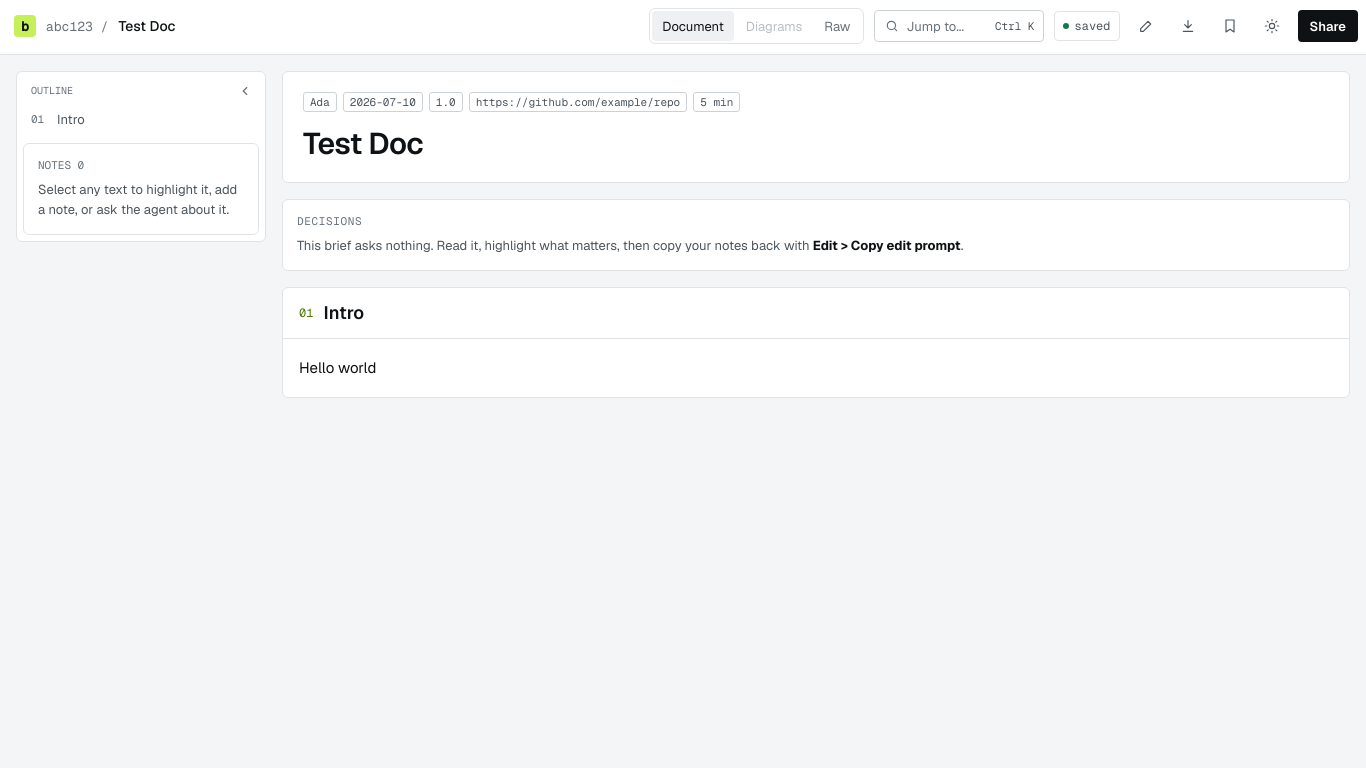
Test case: SessionPage / SessionView › Archive button opens SaveModal, and a plain save marks the Archive button archived without losing the doc
expect the heading "Test Doc" is shown: met, box [303, 124, 423, 163]
Click the button named "Archive" at [1230, 26], box [1214, 10, 1246, 42]
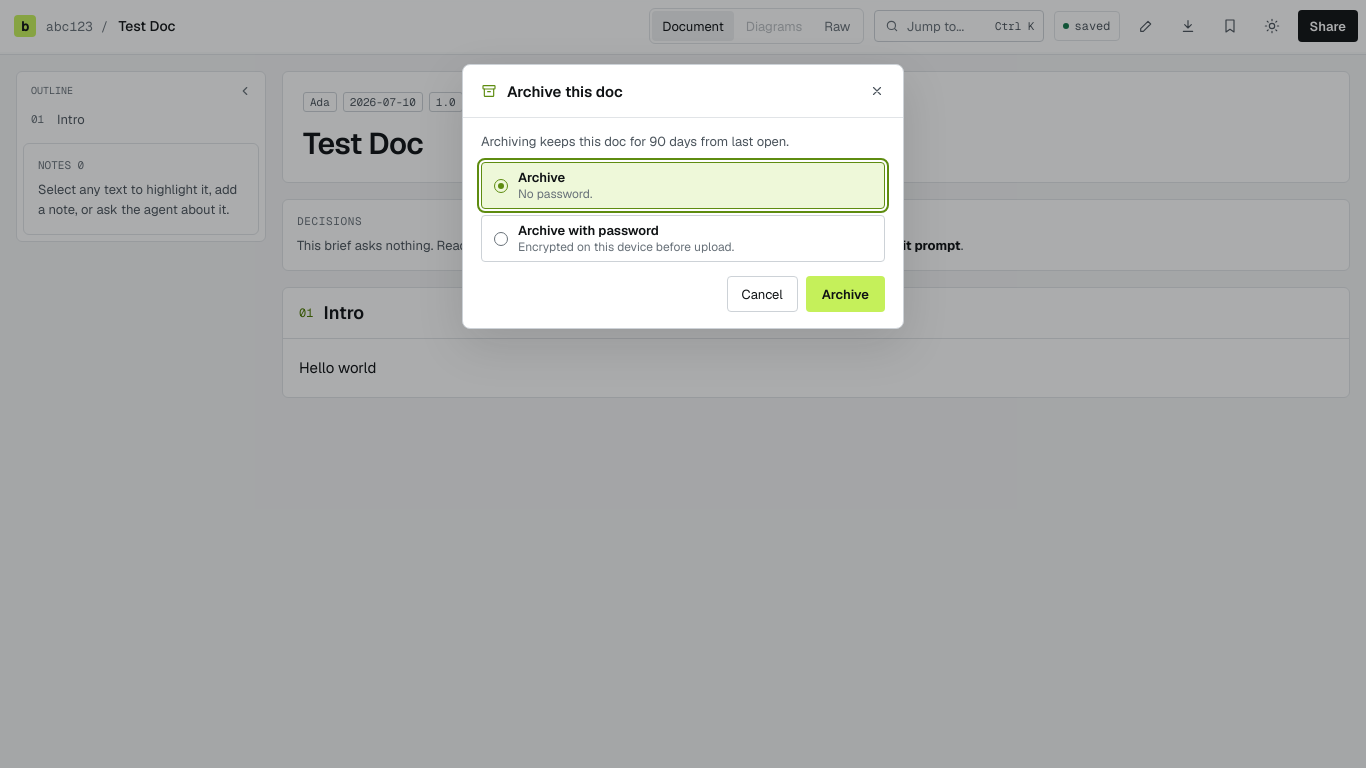
Click the button "Archive" at [845, 294], box [806, 276, 885, 312]
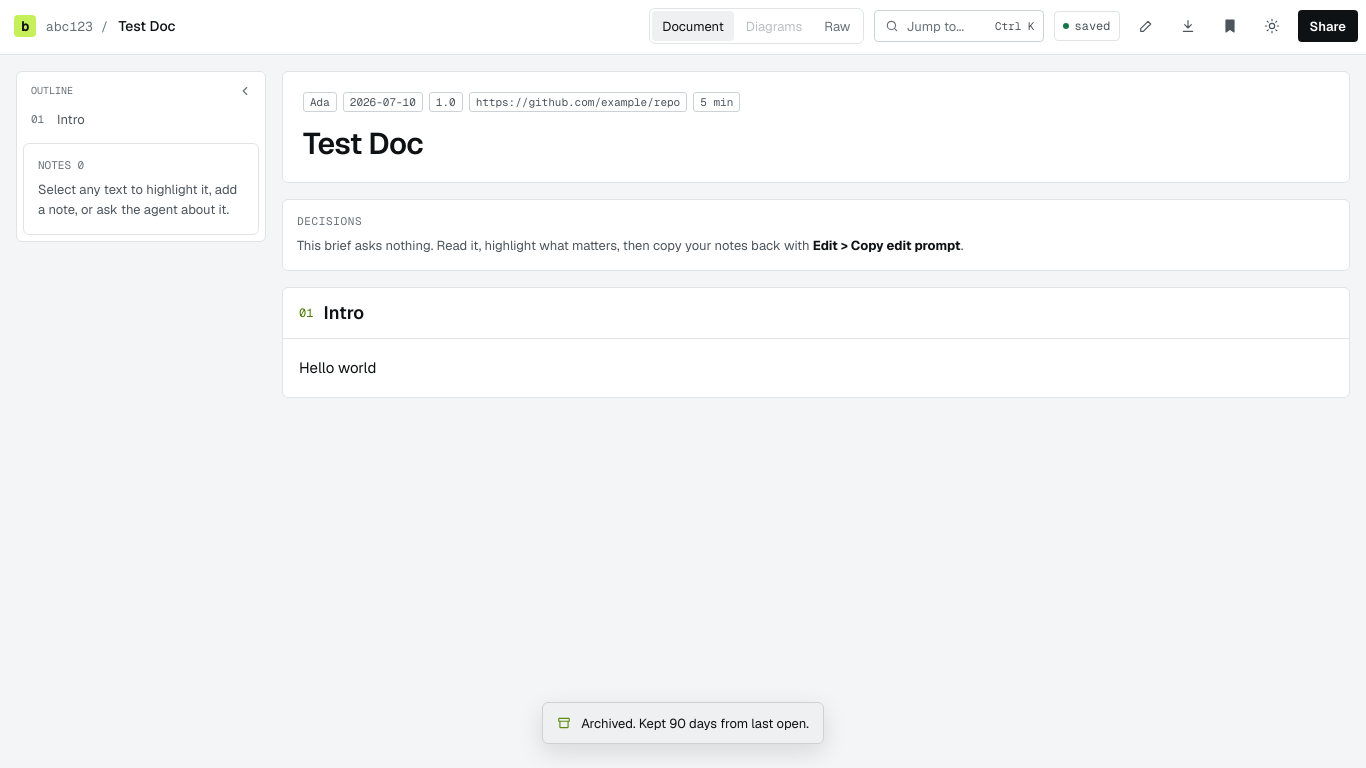
expect the heading "Test Doc" is shown: met, box [303, 124, 423, 163]
expect the text "Archive this doc" is gone: met
